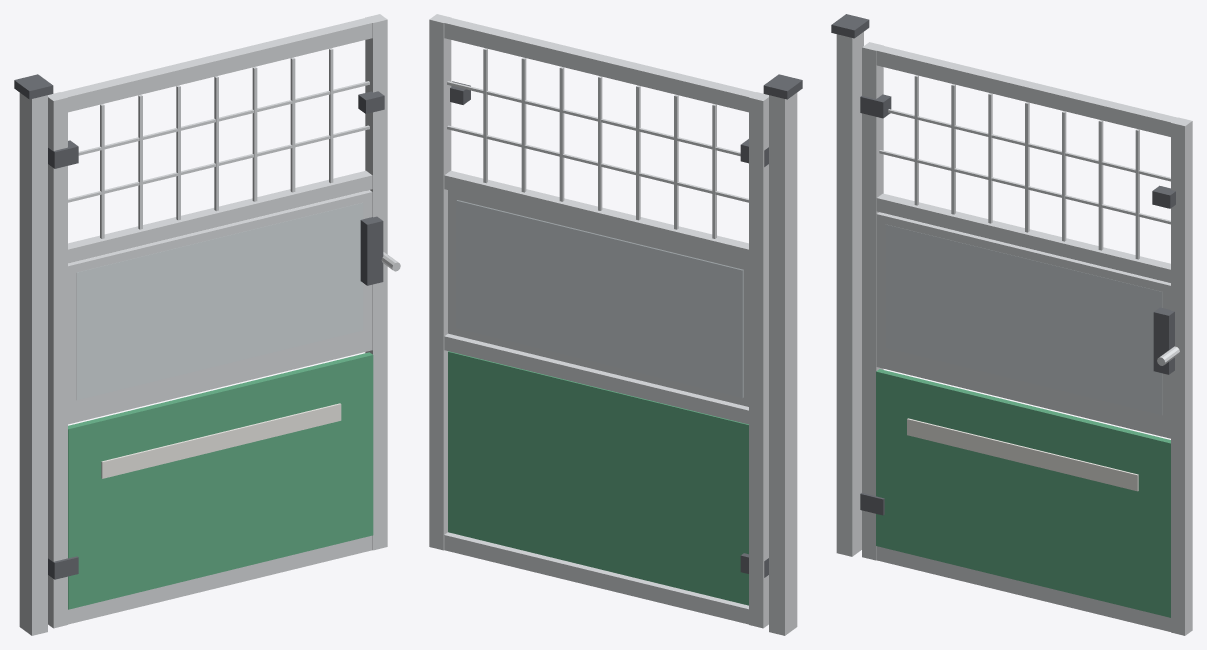
Rendered from boarding-kennels-and-cattery-boarding-kennels-and-catt-e7ce11a1__35547.glb.
The picture shows the model from 3 angles, left to right: view 1: azimuth 30°, elevation 25°; view 2: azimuth 150°, elevation 25°; view 3: azimuth 330°, elevation 25°; orthographic projection. The views are drawn at different scales.
Parts seen in each view (by area): view 1: pen-door-leaf/steel, pen-door-leaf/green, pen-door-leaf/glass, boarding-kennels-and-cattery-cat-pen-door, pen-door-leaf/cream, pen-door-leaf/charcoal; view 2: pen-door-leaf/steel, pen-door-leaf/green, pen-door-leaf/glass, boarding-kennels-and-cattery-cat-pen-door, pen-door-leaf/charcoal; view 3: pen-door-leaf/steel, pen-door-leaf/green, pen-door-leaf/glass, boarding-kennels-and-cattery-cat-pen-door, pen-door-leaf/cream, pen-door-leaf/charcoal.
Boxes of the visible parts, x1=… form: pen-door-leaf/steel: x1=48, y1=14, x2=400, y2=628; pen-door-leaf/green: x1=68, y1=352, x2=373, y2=609; pen-door-leaf/glass: x1=76, y1=203, x2=363, y2=399; boarding-kennels-and-cattery-cat-pen-door: x1=14, y1=74, x2=53, y2=635; pen-door-leaf/cream: x1=101, y1=403, x2=341, y2=478; pen-door-leaf/charcoal: x1=48, y1=91, x2=384, y2=579; pen-door-leaf/steel: x1=429, y1=14, x2=768, y2=628; pen-door-leaf/green: x1=448, y1=351, x2=748, y2=605; pen-door-leaf/glass: x1=456, y1=200, x2=743, y2=397; boarding-kennels-and-cattery-cat-pen-door: x1=763, y1=74, x2=802, y2=635; pen-door-leaf/charcoal: x1=450, y1=81, x2=768, y2=577; pen-door-leaf/steel: x1=862, y1=42, x2=1192, y2=635; pen-door-leaf/green: x1=876, y1=369, x2=1170, y2=617; pen-door-leaf/glass: x1=885, y1=224, x2=1162, y2=414; boarding-kennels-and-cattery-cat-pen-door: x1=831, y1=14, x2=869, y2=556; pen-door-leaf/cream: x1=907, y1=418, x2=1138, y2=491; pen-door-leaf/charcoal: x1=860, y1=94, x2=1175, y2=515.
Size of the model in its own units: 1.37 by 1.97 by 0.185.
